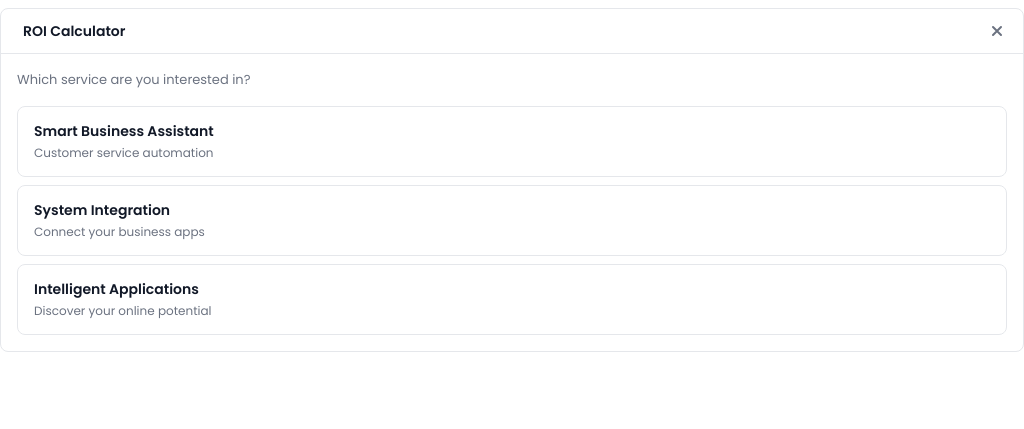
Scenario: ROICalculatorForm › Validation › should validate monthly inquiries required
This screenshot has width=1024, height=429.
Note: Select Service
Click the button "Smart Business Assistant Customer service automation" at [124, 130], box [17,106,1007,176]
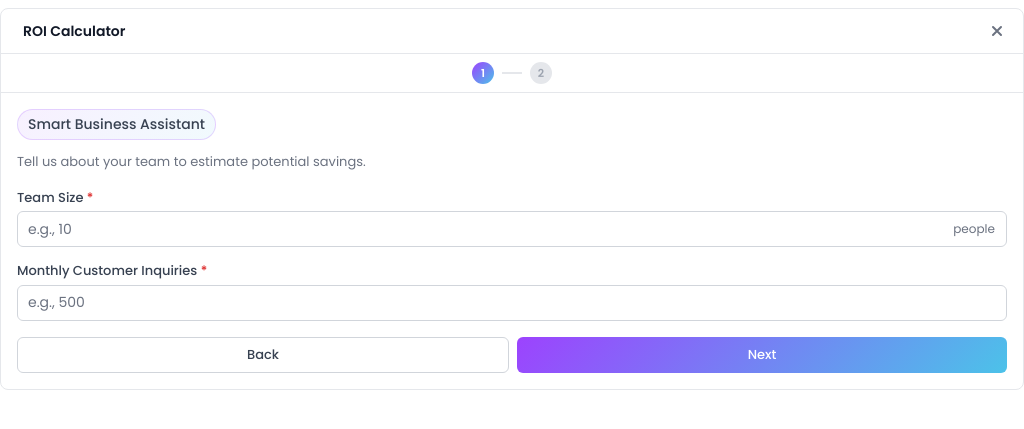
Leave the number field labelled "Monthly Customer Inquiries", box [17,284,1007,320]
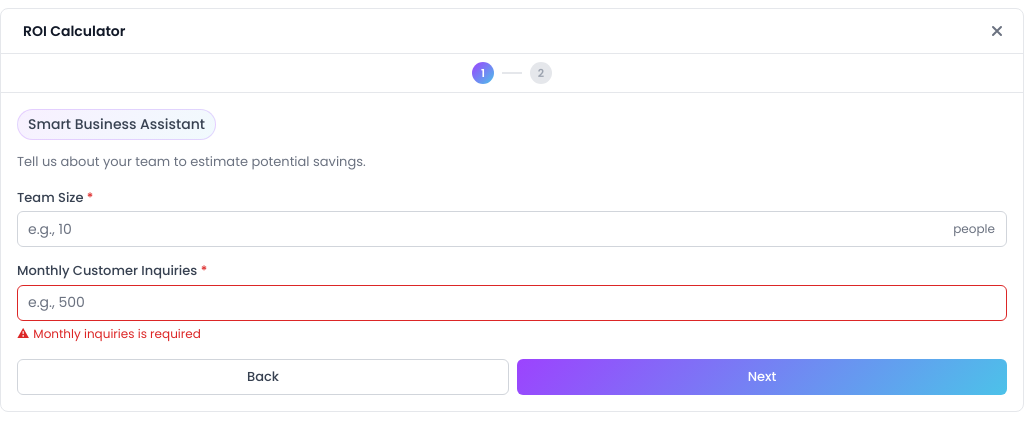
Expected: the text "⚠ Monthly inquiries is required" is shown, [17,324,201,342]
